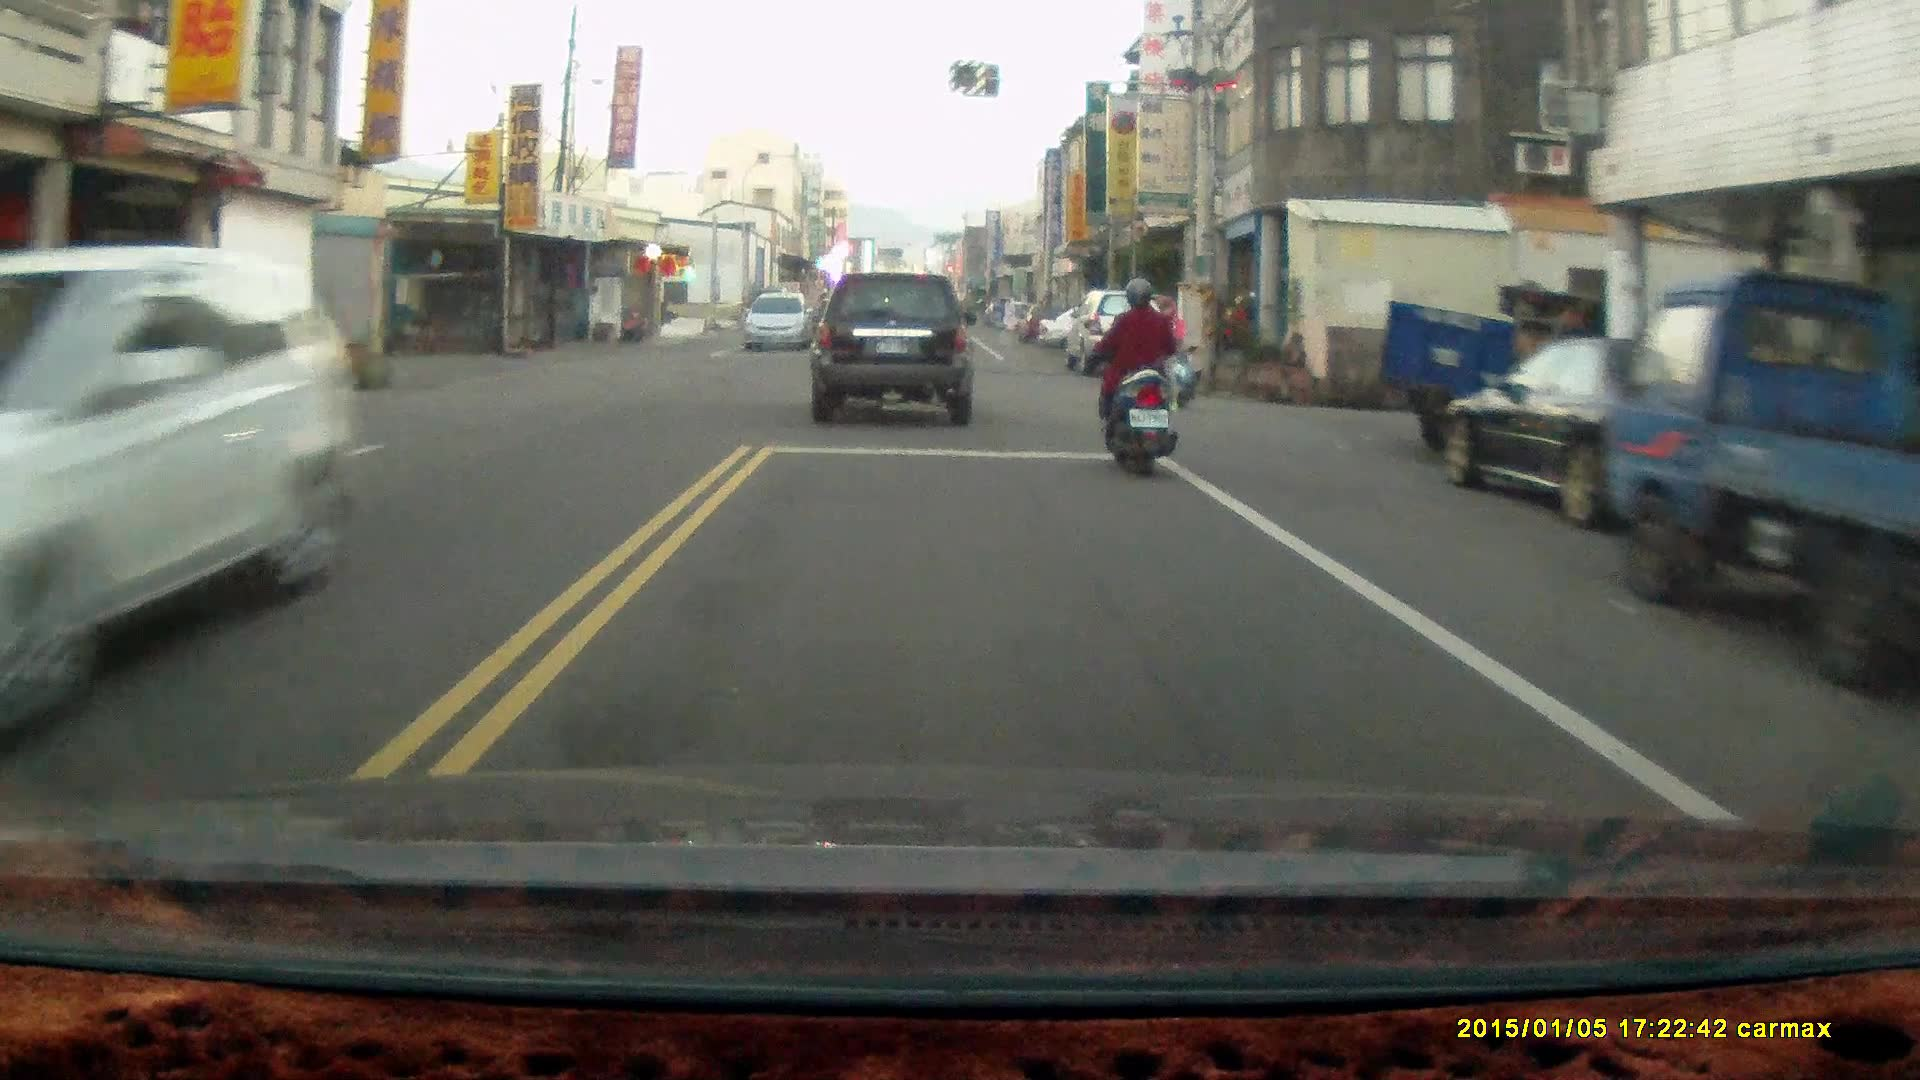rider: (1097, 271, 1176, 476)
vehicle: (1, 243, 358, 731), (1607, 267, 1920, 685), (1433, 328, 1828, 527), (1377, 277, 1651, 459), (808, 269, 983, 429), (1066, 288, 1174, 373), (743, 292, 817, 354)
